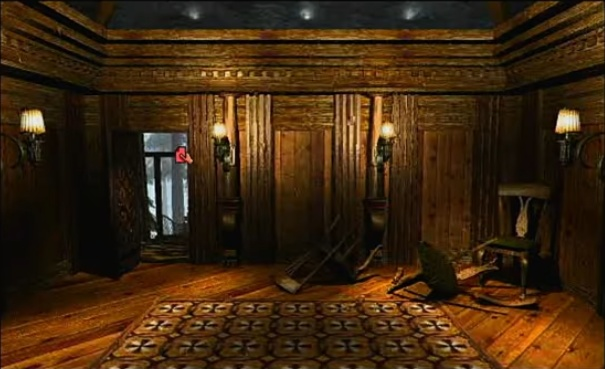Keep: (170, 143, 196, 166)
